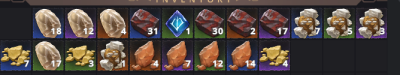cinnabar mineral: (227, 7, 257, 38), (129, 8, 159, 38), (194, 7, 224, 37), (259, 7, 289, 37)
dolomite mineral: (292, 7, 322, 38), (324, 7, 354, 38), (356, 8, 386, 38), (97, 41, 127, 70)
halite mineral: (98, 7, 127, 37), (34, 40, 63, 70), (34, 8, 63, 37), (66, 8, 95, 37)
nitre mineral: (227, 40, 258, 70), (195, 40, 225, 70), (130, 41, 160, 70), (163, 39, 192, 69)
sulphur mineral: (259, 39, 289, 70), (66, 41, 95, 70), (2, 40, 30, 70)
